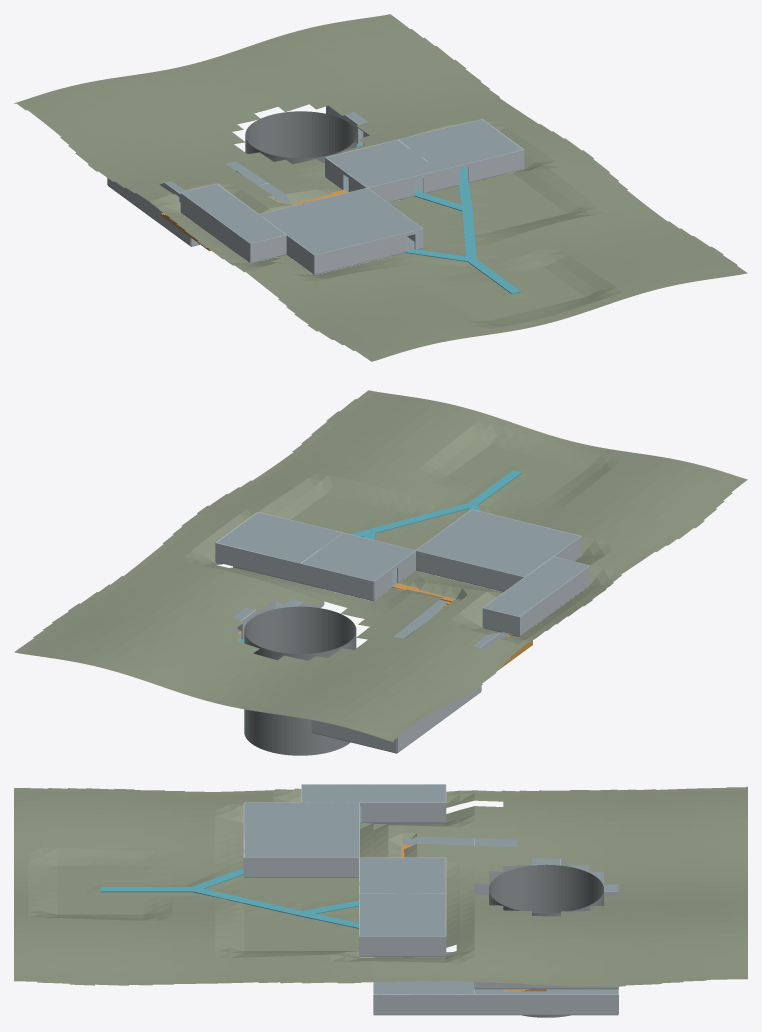
File: rough-shell.glb
3 renders of one model, top to bottom at view 1: azimuth 30°, elevation 25°; view 2: azimuth 150°, elevation 25°; view 3: azimuth 270°, elevation 25°, orthographic. The views are drawn at different scales.
Visible parts, largest first — view 1: Saved editor terrain WLD-18, Ceiling cap servicehouse, EMPTY SHAFT / guard engineering pending, Ceiling cap shop, Ceiling cap head, Ceiling cap exit, Wall servicehouse S, Wall exit W, Wall shop S.001, Wall head S, Wall exit S, Wall servicehouse W.001; view 2: Saved editor terrain WLD-18, EMPTY SHAFT / guard engineering pending, Ceiling cap servicehouse, Ceiling cap shop, Ceiling cap head, Ceiling cap exit, Wall servicehouse N, Wall shop N, Wall head N, Wall exit W, Wall pump N, Wall exit N (+2 smaller); view 3: Saved editor terrain WLD-18, Ceiling cap servicehouse, EMPTY SHAFT / guard engineering pending, Ceiling cap shop, Ceiling cap head, Wall east E, Ceiling cap exit, Wall servicehouse E, Wall plant E, Wall shop E, Wall exit E, Ceiling cap plant (+4 smaller).
Boxes of the visible parts, left/top/right/bottom form: Saved editor terrain WLD-18: left=14, top=14, right=747, bottom=361; Ceiling cap servicehouse: left=259, top=188, right=422, bottom=254; EMPTY SHAFT / guard engineering pending: left=245, top=111, right=356, bottom=256; Ceiling cap shop: left=399, top=119, right=522, bottom=170; Ceiling cap head: left=326, top=140, right=438, bottom=187; Ceiling cap exit: left=181, top=184, right=285, bottom=243; Wall servicehouse S: left=314, top=233, right=406, bottom=273; Wall exit W: left=180, top=193, right=250, bottom=262; Wall shop S.001: left=468, top=149, right=524, bottom=182; Wall head S: left=368, top=176, right=414, bottom=201; Wall exit S: left=250, top=234, right=286, bottom=262; Wall servicehouse W.001: left=264, top=218, right=314, bottom=273; Saved editor terrain WLD-18: left=14, top=390, right=747, bottom=742; EMPTY SHAFT / guard engineering pending: left=244, top=606, right=356, bottom=755; Ceiling cap servicehouse: left=416, top=509, right=580, bottom=576; Ceiling cap shop: left=217, top=512, right=341, bottom=563; Ceiling cap head: left=302, top=533, right=415, bottom=581; Ceiling cap exit: left=483, top=557, right=589, bottom=616; Wall servicehouse N: left=416, top=550, right=523, bottom=591; Wall shop N: left=215, top=542, right=300, bottom=582; Wall head N: left=300, top=563, right=373, bottom=600; Wall exit W: left=519, top=565, right=589, bottom=635; Wall pump N: left=311, top=720, right=396, bottom=752; Wall exit N: left=482, top=608, right=519, bottom=635; Saved editor terrain WLD-18: left=14, top=786, right=747, bottom=986; Ceiling cap servicehouse: left=244, top=802, right=359, bottom=857; EMPTY SHAFT / guard engineering pending: left=489, top=864, right=603, bottom=1017; Ceiling cap shop: left=359, top=894, right=445, bottom=936; Ceiling cap head: left=359, top=857, right=445, bottom=893; Wall east E: left=474, top=994, right=618, bottom=1014; Ceiling cap exit: left=302, top=784, right=445, bottom=802; Wall servicehouse E: left=244, top=857, right=358, bottom=877; Wall plant E: left=373, top=994, right=474, bottom=1014; Wall shop E: left=359, top=936, right=445, bottom=956; Wall exit E: left=361, top=802, right=445, bottom=822; Ceiling cap plant: left=373, top=952, right=474, bottom=994.
Bounding box in the file's own units: 64 × 19 × 102.
